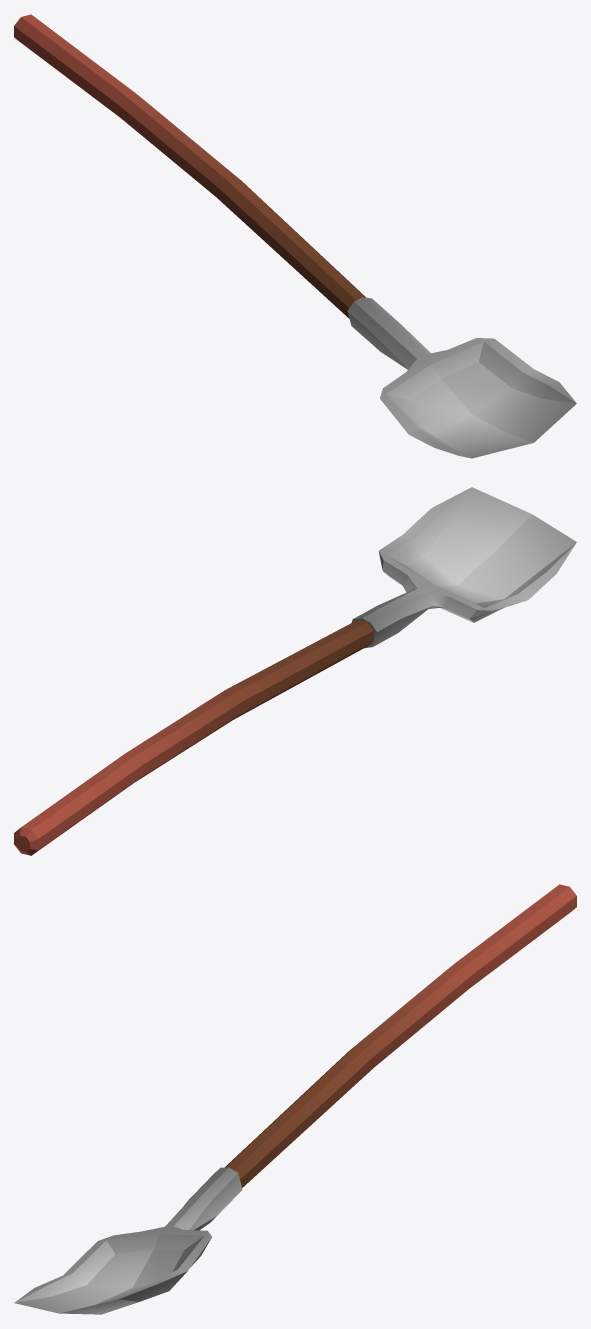
File: Shovel.fbx
The picture shows the model from 3 angles, top to bottom: view 1: azimuth 30°, elevation 25°; view 2: azimuth 150°, elevation 25°; view 3: azimuth 330°, elevation 25°; orthographic projection.
Visible parts, largest first — view 1: Shovel; view 2: Shovel; view 3: Shovel.
Part boxes in pixels (x1,y1,x2,y2): Shovel: (14, 14, 576, 458); Shovel: (14, 487, 576, 855); Shovel: (14, 884, 576, 1314).
Size of the model in its own units: 0.3103 by 0.2214 by 2.16.
